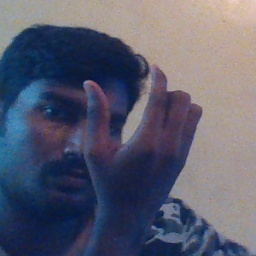U: (80, 58, 203, 198)
